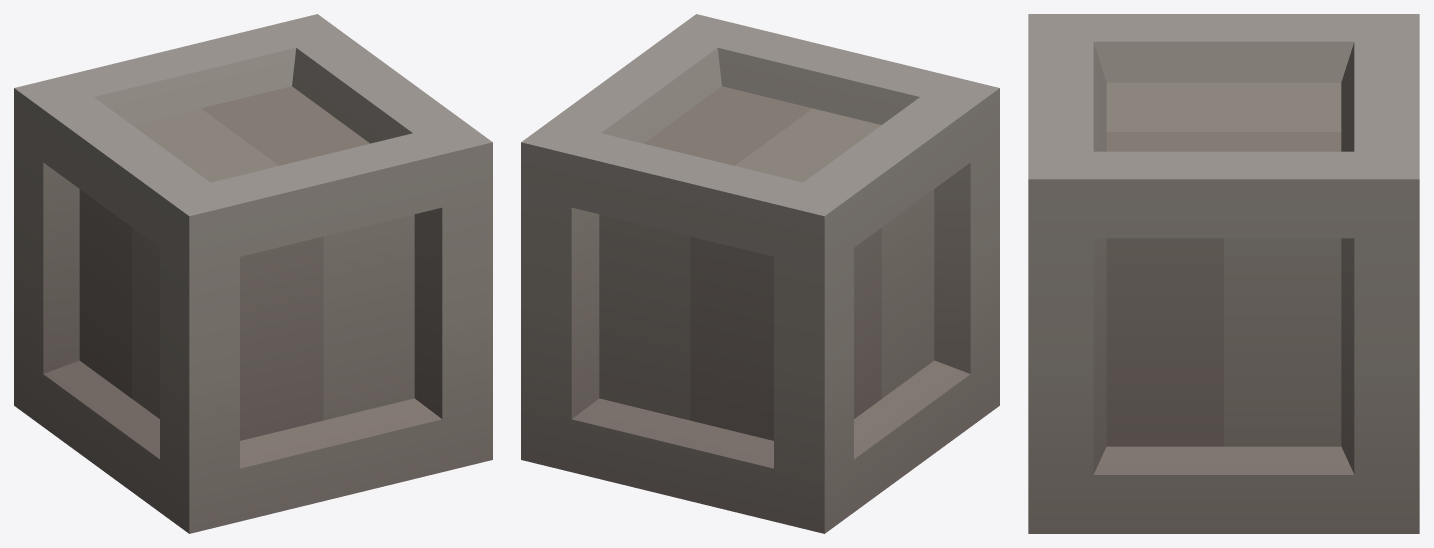
File: crate_B_big.glb
The picture shows the model from 3 angles, left to right: view 1: azimuth 30°, elevation 25°; view 2: azimuth 150°, elevation 25°; view 3: azimuth 270°, elevation 25°; orthographic projection. The views are drawn at different scales.
Visible parts, largest first — view 1: crate_B_big; view 2: crate_B_big; view 3: crate_B_big.
Boxes of the visible parts, box(x1,y1,x2,y2) form: crate_B_big: box(14, 14, 492, 533); crate_B_big: box(521, 14, 999, 533); crate_B_big: box(1028, 14, 1419, 533).
Bounding box in the file's own units: 0.21 × 0.21 × 0.21.
Materials: 1 (1 with a texture image).
